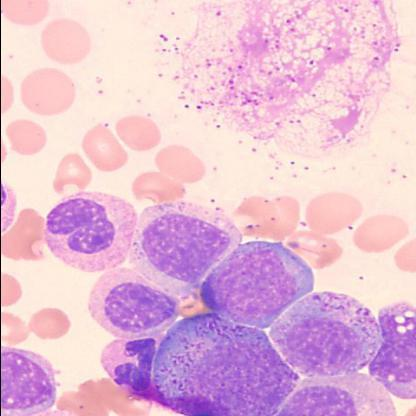Promyelocyte: (197, 241, 322, 329)
